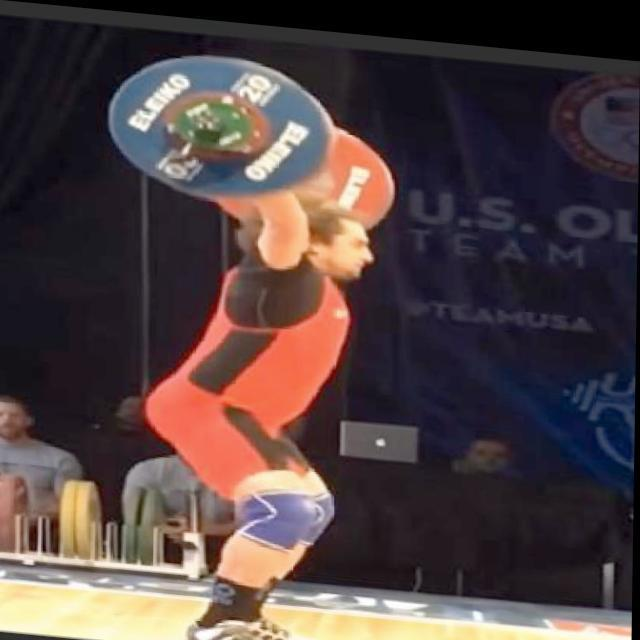barbell: (106, 39, 337, 206)
